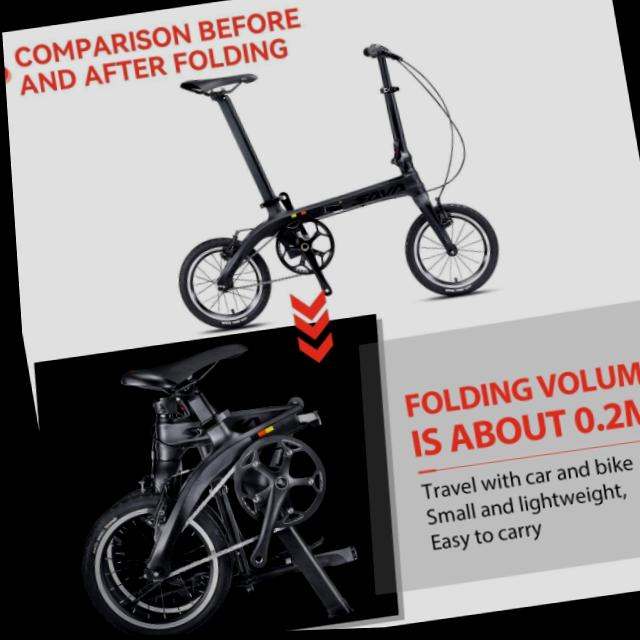folding-bike: (141, 32, 507, 336), (43, 330, 362, 639)
